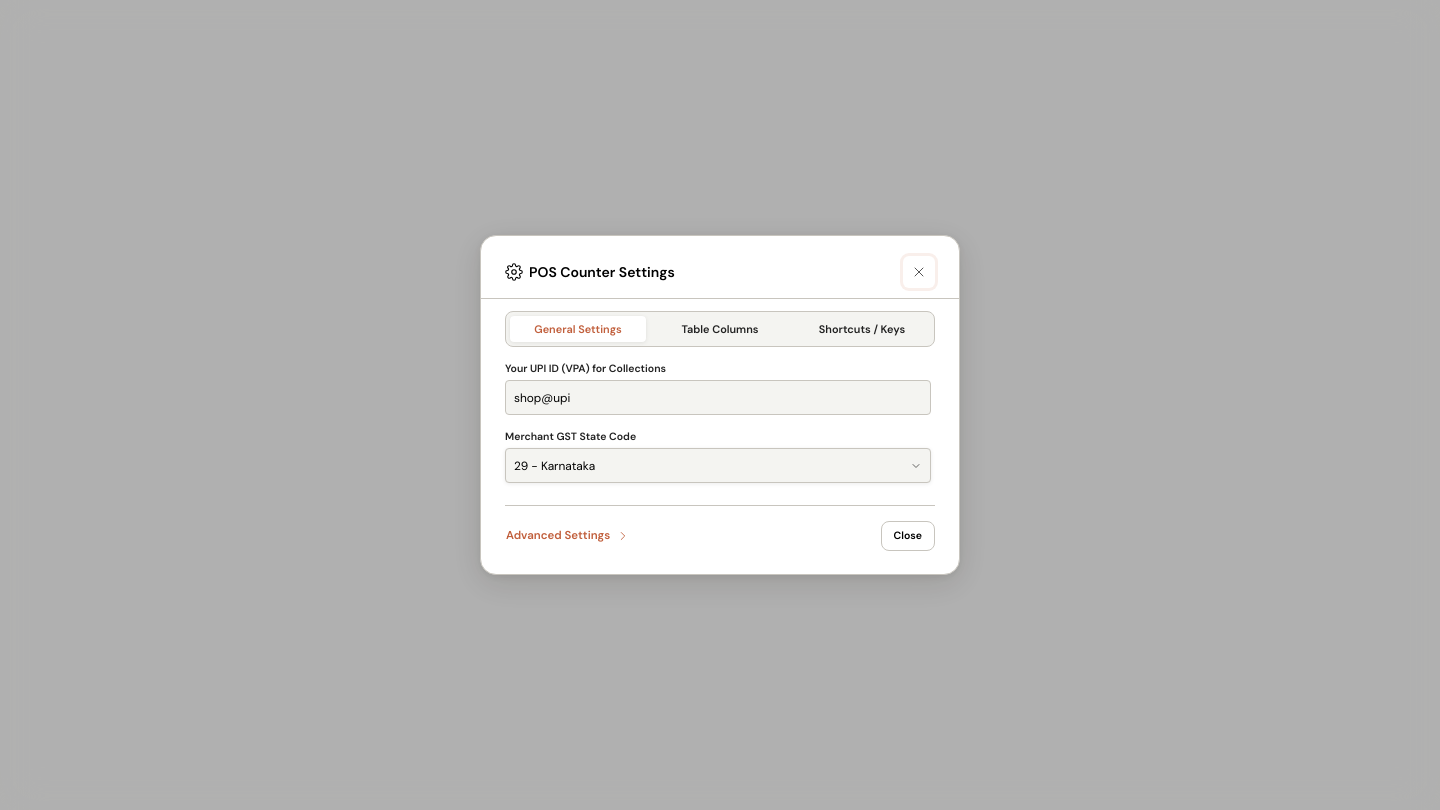
PosCounterSettingsModal › renders shortcut settings when the Shortcuts tab is clicked
This screenshot has width=1440, height=810.
Click the button "Shortcuts / Keys".
click(862, 329)  # box [794,316,930,342]
(page scrolled)
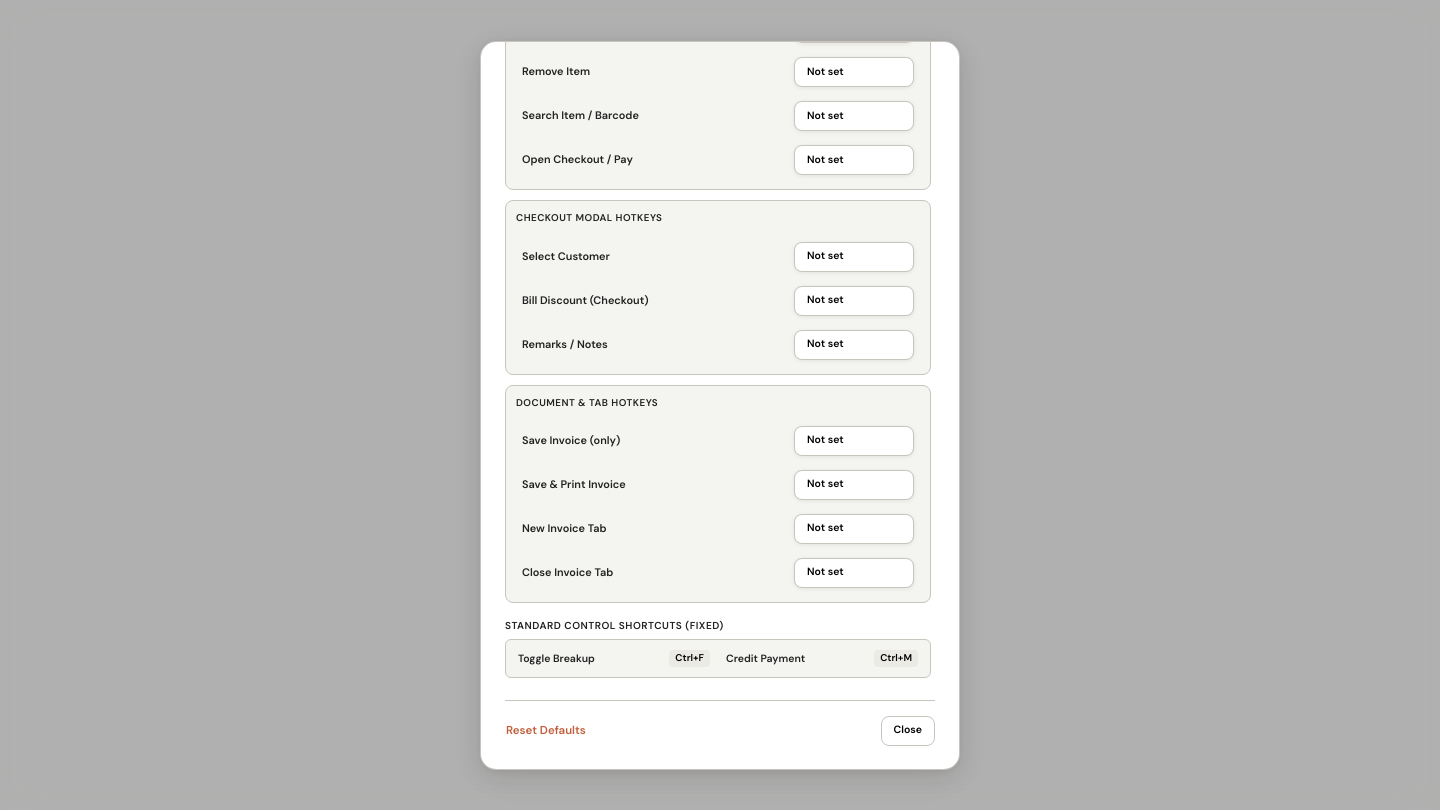
expect the text "Standard Control Shortcuts (Fixed)" is shown: met, box [505,619,724,632]
